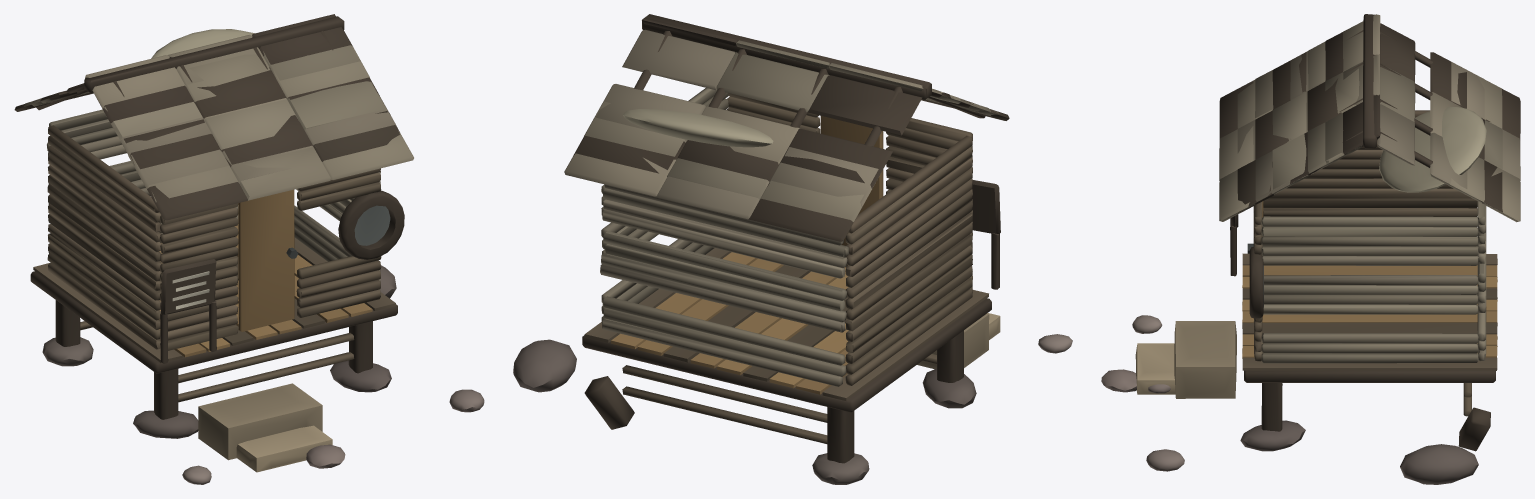
Rendered from lookout_hut_b_lod1.glb.
3 renders of one model, left to right at view 1: azimuth 30°, elevation 25°; view 2: azimuth 150°, elevation 25°; view 3: azimuth 270°, elevation 25°, orthographic. The views are drawn at different scales.
Parts seen in each view (by area): view 1: Surface.001; view 2: Surface.001; view 3: Surface.001.
Part boxes in pixels (bbox=[...]): Surface.001: bbox=[14, 14, 484, 484]; Surface.001: bbox=[513, 14, 1072, 484]; Surface.001: bbox=[1101, 14, 1520, 484].
Bounding box in the file's own units: 5.75 × 5.17 × 5.99.
